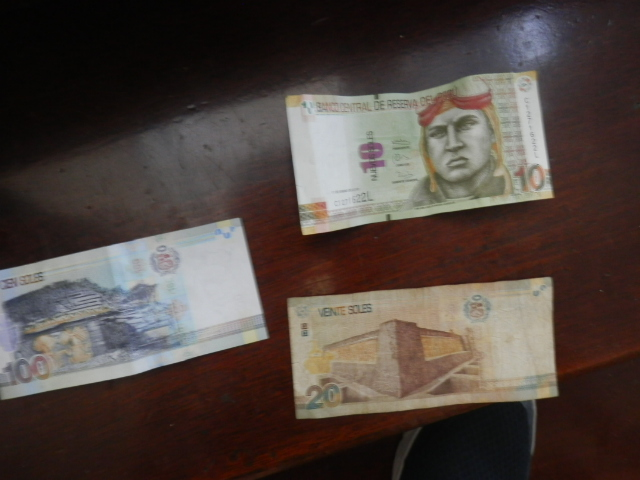B10: (258, 64, 595, 238)
B100: (1, 232, 272, 405)
B20: (277, 265, 576, 436)
